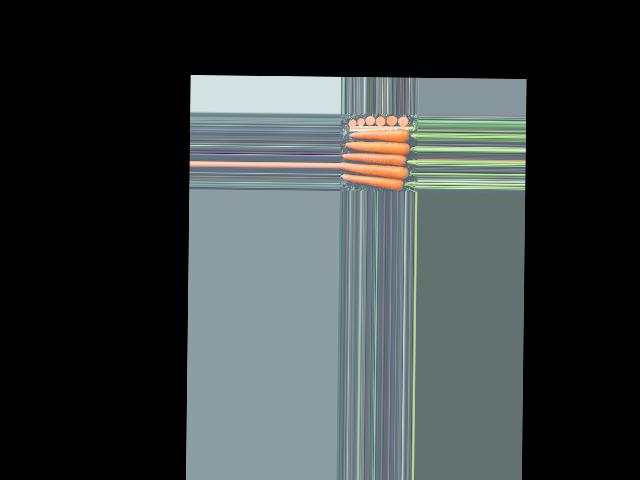carrot: (346, 126, 414, 141)
